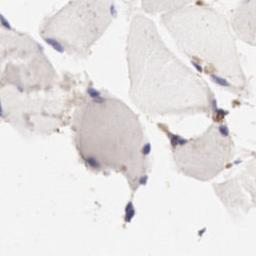nucleus: (45, 37, 64, 53), (124, 202, 137, 222), (213, 74, 230, 85), (1, 15, 12, 31), (213, 101, 224, 114), (219, 124, 230, 137), (87, 86, 100, 96), (191, 60, 202, 71), (141, 143, 151, 155), (138, 175, 148, 185), (88, 157, 97, 166), (198, 225, 206, 235), (110, 5, 115, 16), (178, 138, 187, 144), (234, 160, 242, 165), (1, 99, 2, 119), (19, 88, 22, 92)
positive_cell: (157, 124, 187, 147), (189, 55, 214, 74), (211, 100, 229, 124), (225, 160, 242, 168), (197, 1, 204, 4)
